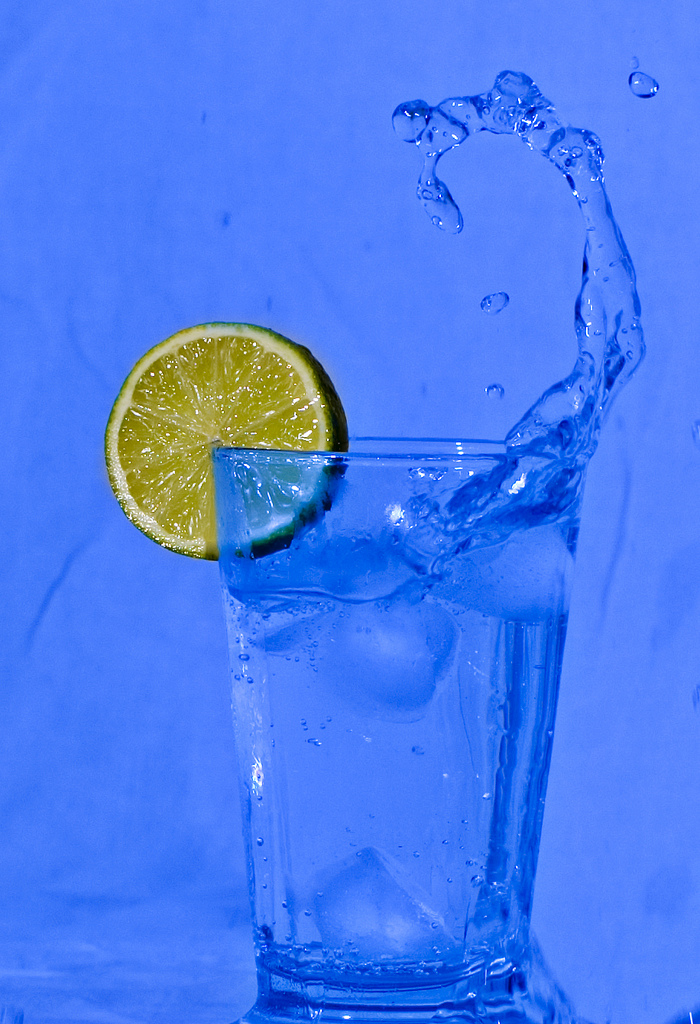glass of water: (215, 440, 539, 1015)
